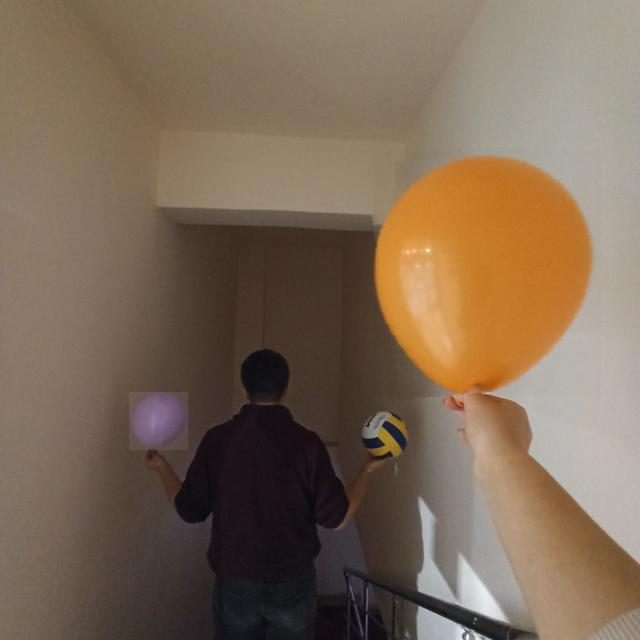balloon: (373, 150, 601, 396), (129, 392, 188, 450)
